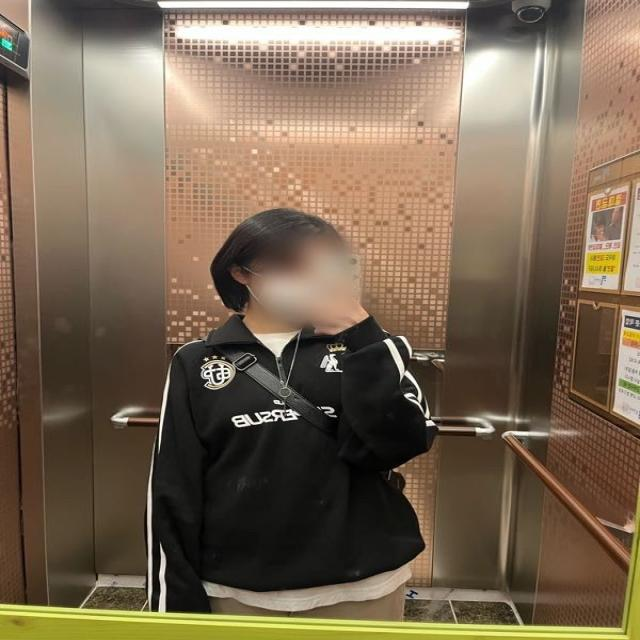mtm: (152, 307, 433, 607)
